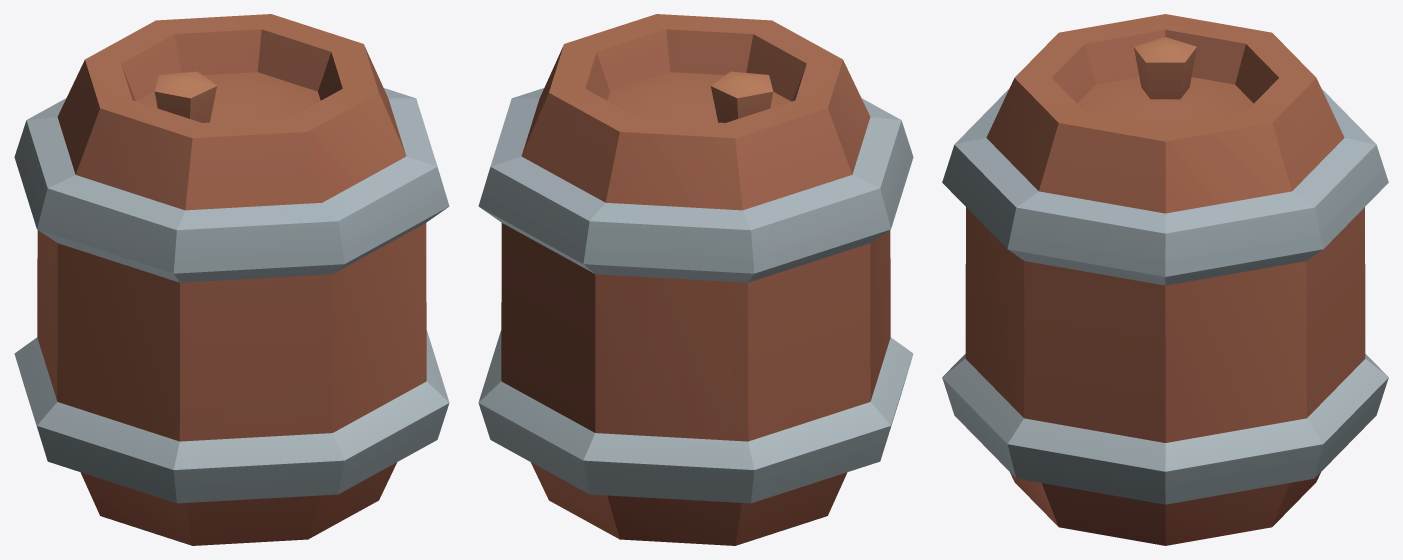
Rendered from barrel_small.glb.
3 views of the same model, side by side, from view 1: azimuth 30°, elevation 25°; view 2: azimuth 150°, elevation 25°; view 3: azimuth 270°, elevation 25° (orthographic).
Visible parts, largest first — view 1: barrel_small; view 2: barrel_small; view 3: barrel_small.
Part boxes in pixels (x1,y1,x2,y2): barrel_small: [14, 14, 449, 545]; barrel_small: [478, 14, 913, 545]; barrel_small: [942, 14, 1388, 545].
Size of the model in its own units: 1 by 1.02 by 1.
Materials: 1 (1 with a texture image).
